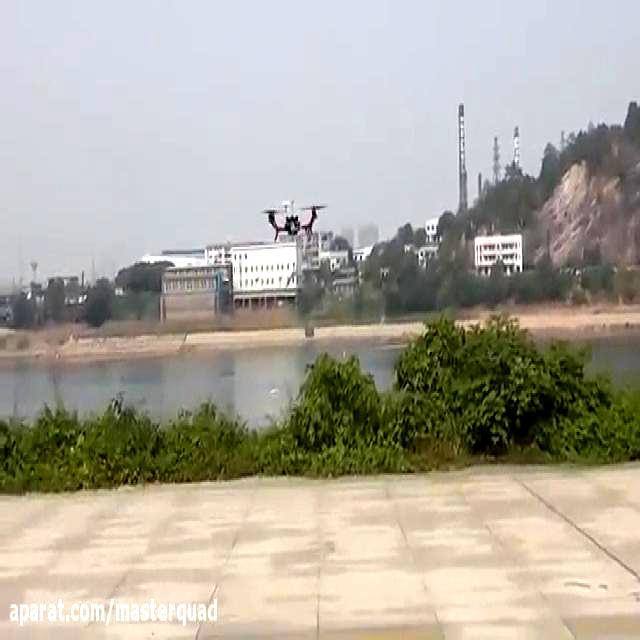drone: (258, 192, 328, 246)
